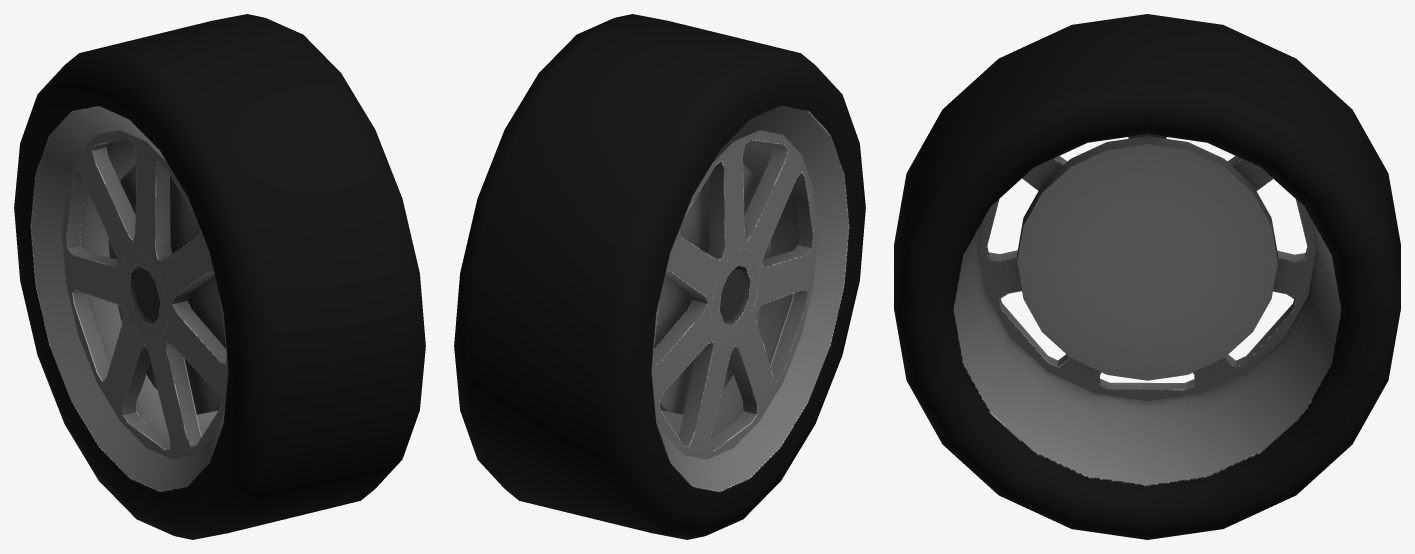
Rendered from eclipse95_modified_wheel.fbx.
3 views of the same model, side by side, from view 1: azimuth 30°, elevation 25°; view 2: azimuth 150°, elevation 25°; view 3: azimuth 270°, elevation 25° (orthographic).
Visible parts, largest first — view 1: wheel_pz_fnf; view 2: wheel_pz_fnf; view 3: wheel_pz_fnf.
Part boxes in pixels (x1,y1,x2,y2): wheel_pz_fnf: (14, 14, 425, 539); wheel_pz_fnf: (454, 14, 865, 539); wheel_pz_fnf: (894, 14, 1400, 539).
Bounding box in the file's own units: 0.2643 × 0.6401 × 0.6401.
